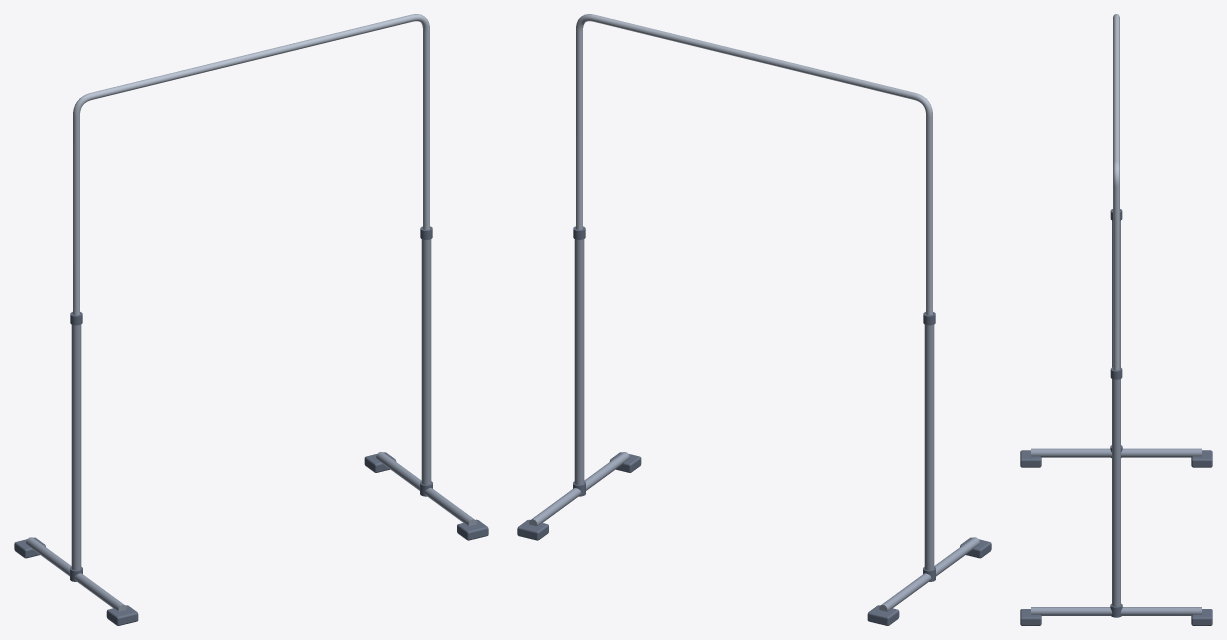
The model's file is 单杆晾衣架-lite.glb.
3 views of the same model, side by side, from view 1: azimuth 30°, elevation 25°; view 2: azimuth 150°, elevation 25°; view 3: azimuth 270°, elevation 25° (orthographic). The views are drawn at different scales.
Parts seen in each view (by area): view 1: single-rail-rack-frame, single-rail-rack-rail, single-rail-rack-plastic; view 2: single-rail-rack-frame, single-rail-rack-rail, single-rail-rack-plastic; view 3: single-rail-rack-frame, single-rail-rack-rail, single-rail-rack-plastic.
Boxes of the visible parts, bbox=[...] form: single-rail-rack-frame: bbox=[26, 239, 476, 611]; single-rail-rack-rail: bbox=[73, 14, 429, 315]; single-rail-rack-plastic: bbox=[14, 226, 488, 625]; single-rail-rack-frame: bbox=[529, 239, 979, 611]; single-rail-rack-rail: bbox=[576, 14, 932, 315]; single-rail-rack-plastic: bbox=[517, 226, 991, 625]; single-rail-rack-frame: bbox=[1031, 220, 1201, 615]; single-rail-rack-rail: bbox=[1113, 14, 1119, 370]; single-rail-rack-plastic: bbox=[1020, 209, 1212, 625].
Size of the model in its own units: 1.23 by 1.55 by 0.596.
